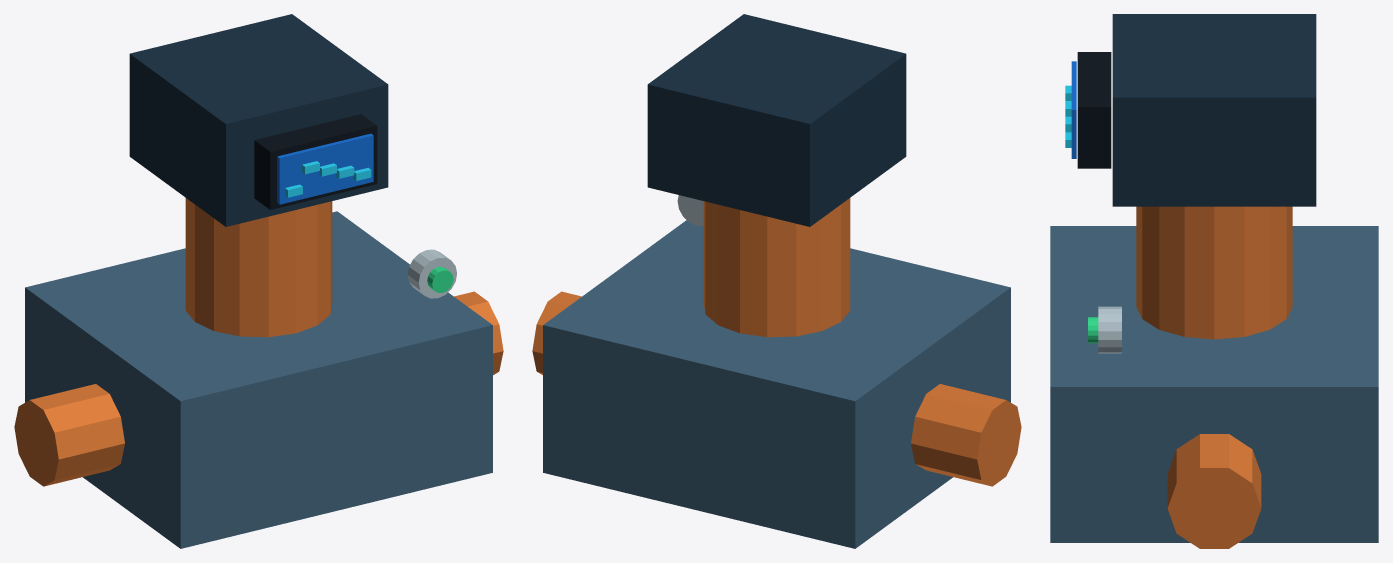
Rendered from 09_L69_ElectronicExpansionValveA.fbx.
The picture shows the model from 3 angles, left to right: view 1: azimuth 30°, elevation 25°; view 2: azimuth 150°, elevation 25°; view 3: azimuth 270°, elevation 25°; orthographic projection. The views are drawn at different scales.
Parts seen in each view (by area): view 1: ElectronicExpansionValveA; view 2: ElectronicExpansionValveA; view 3: ElectronicExpansionValveA.
Part boxes in pixels (x1,y1,x2,y2): ElectronicExpansionValveA: (14, 14, 503, 548); ElectronicExpansionValveA: (532, 14, 1021, 548); ElectronicExpansionValveA: (1050, 14, 1378, 548).
Bounding box in the file's own units: 104 × 86 × 63.
